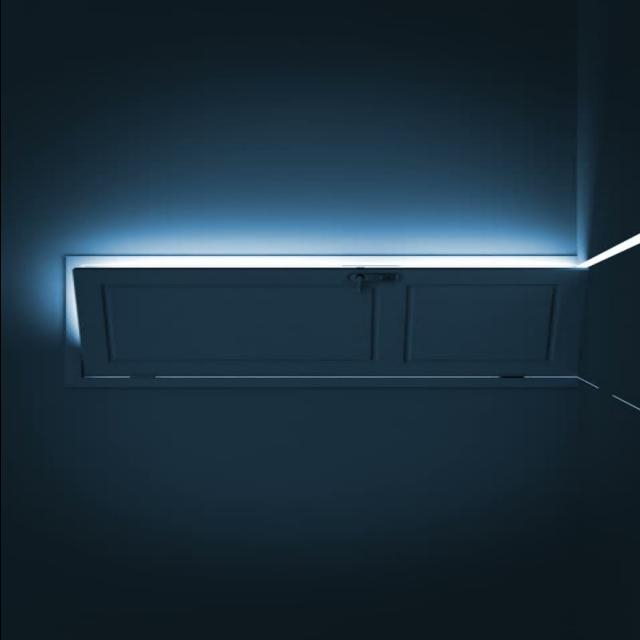open: (66, 257, 576, 385)
